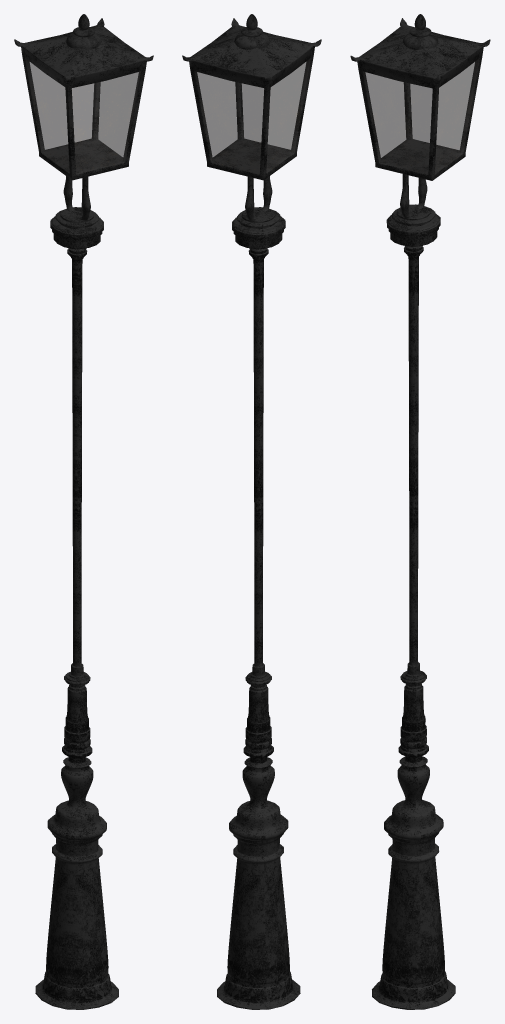
The model's file is Victorian lampost v0.1.fbx.
3 renders of one model, left to right at view 1: azimuth 30°, elevation 25°; view 2: azimuth 150°, elevation 25°; view 3: azimuth 330°, elevation 25°, orthographic.
Parts seen in each view (by area): view 1: High Qual Lampost; view 2: High Qual Lampost; view 3: High Qual Lampost.
Part boxes in pixels (<box>): High Qual Lampost: <box>14,14,153,1009</box>; High Qual Lampost: <box>182,14,321,1009</box>; High Qual Lampost: <box>350,14,490,1009</box>.
Bounding box in the file's own units: 8.68 × 91.71 × 8.8.
Materials: 2 (2 with a texture image).
